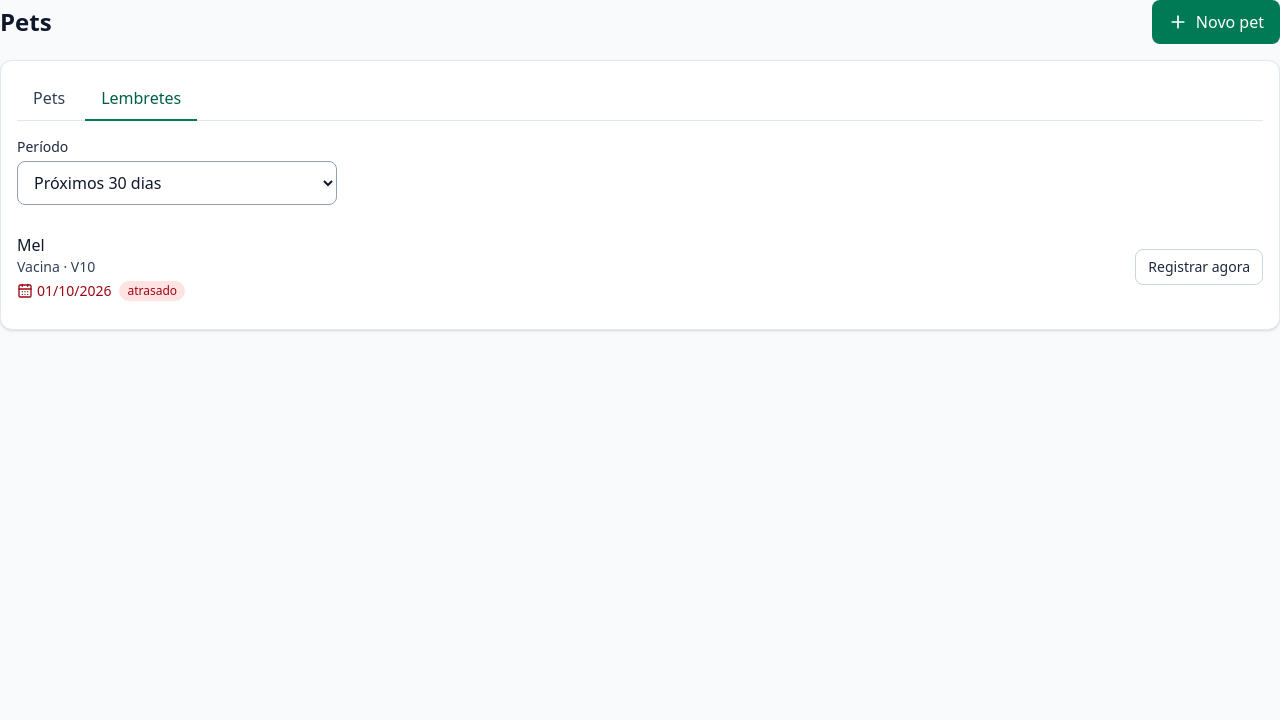
PetsPage › 'Registrar agora' opens a new event with the reminder's type and description, dated today
Expected: the text "atrasado" is shown, [120,281,185,301]
Click the button "Registrar agora": (1199, 267) [1135,249,1263,285]
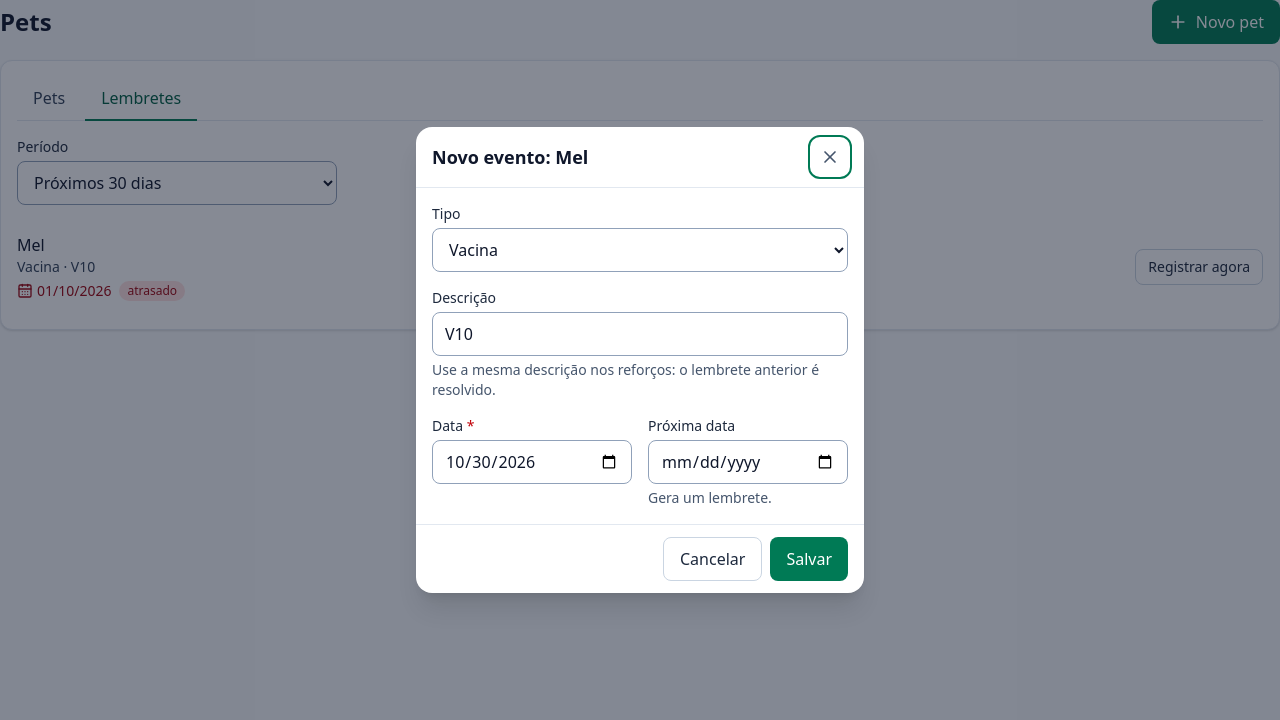
Expected: the dropdown labelled "Tipo" shows "Vacina", [432,228,848,272]
Expected: the field labelled "Descrição" holds "V10", [432,312,848,356]
Click the button "Salvar": (809, 559) [770,537,848,581]
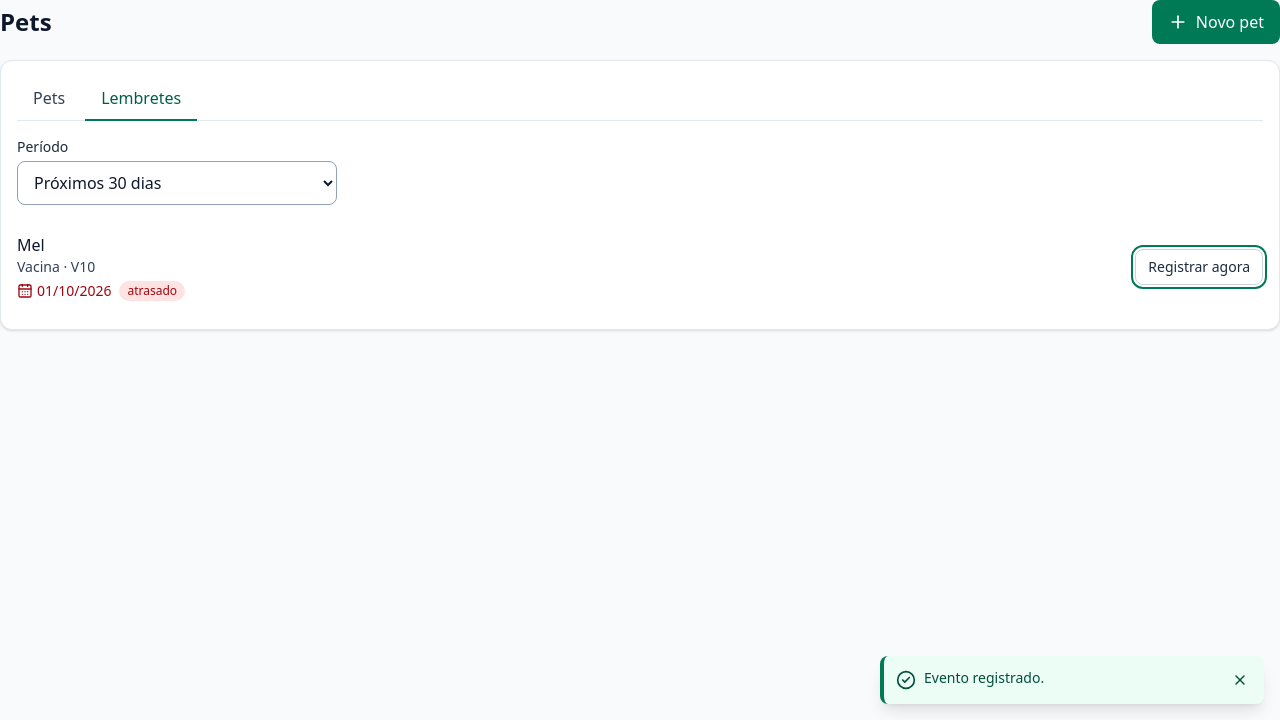
Expected: the text "Evento registrado." is shown, [924,668,1044,687]
